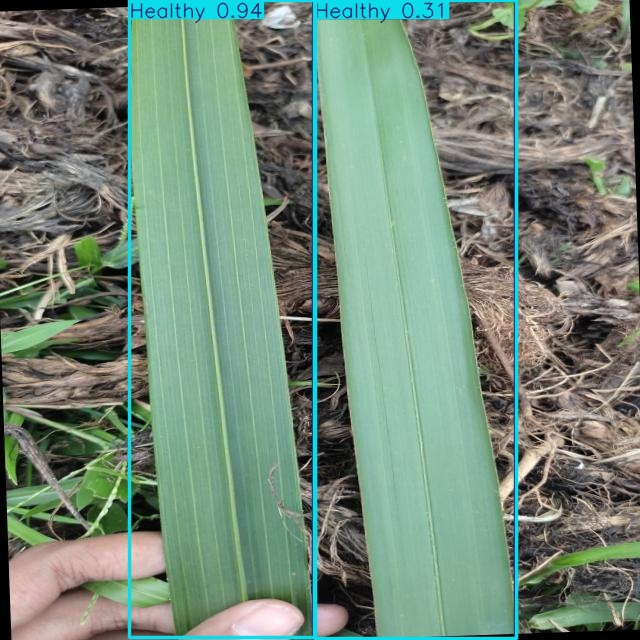Healthy: (315, 0, 516, 639), (129, 0, 316, 638)
nitrogen: (314, 0, 515, 639)
